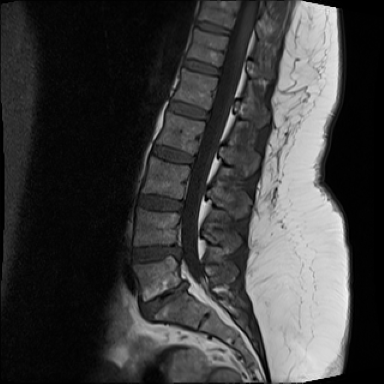Lumbar Disc Bulge (LDB): (138, 276, 192, 324), (126, 239, 190, 270)
Normal IVD: (143, 141, 200, 171), (131, 192, 191, 217), (165, 97, 215, 126), (176, 56, 227, 82), (190, 20, 237, 41)
Spinal Stenosis (SS): (168, 236, 187, 269), (174, 277, 191, 300)
